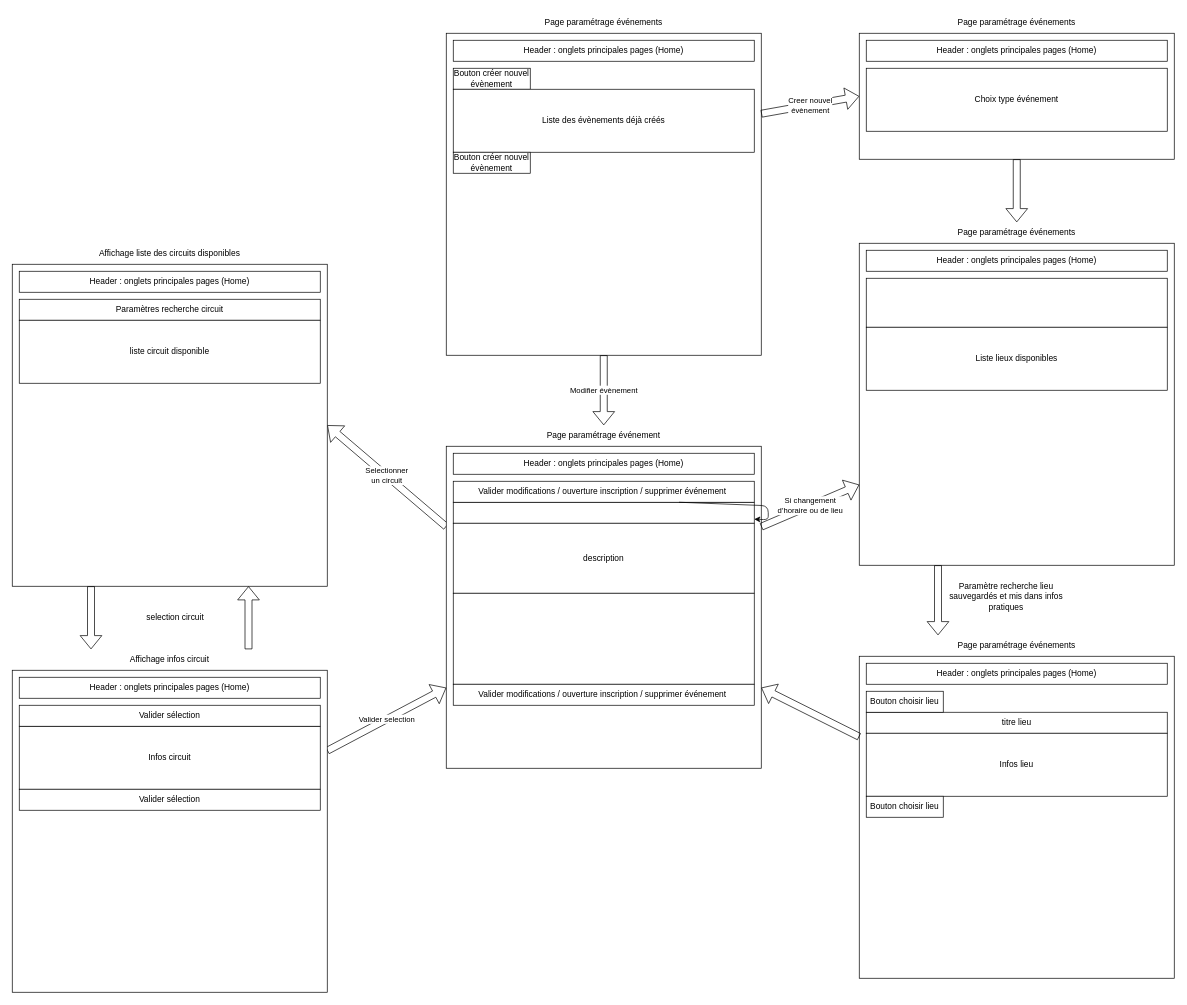
Some shapes in this 1187 by 1005 pixel diagram are drawn without their labels. The box of each missing label's shape, as (x1, y1, x2, y2) in pixels:
infos pratiques : - date - lieu: (453, 593, 754, 684)
Paramètres recherche lieu - date de l'évènement: (866, 278, 1167, 327)
type événement : titre événement: (453, 502, 754, 523)
